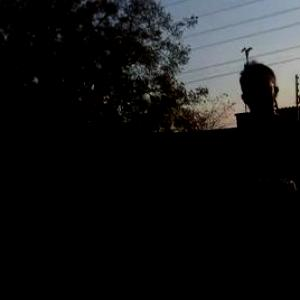follow: (226, 54, 300, 299)
